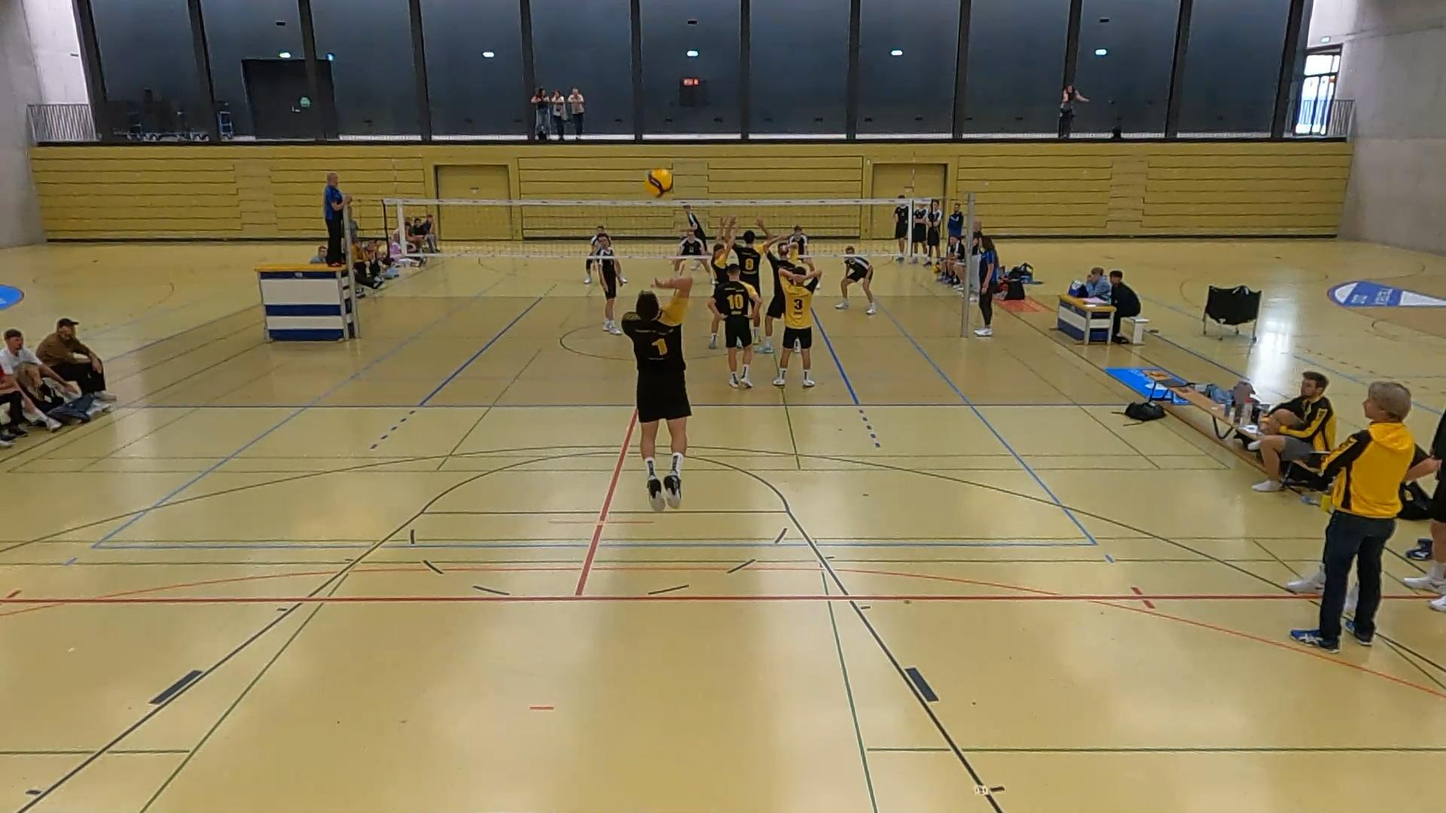battuta: (602, 272, 706, 505)
